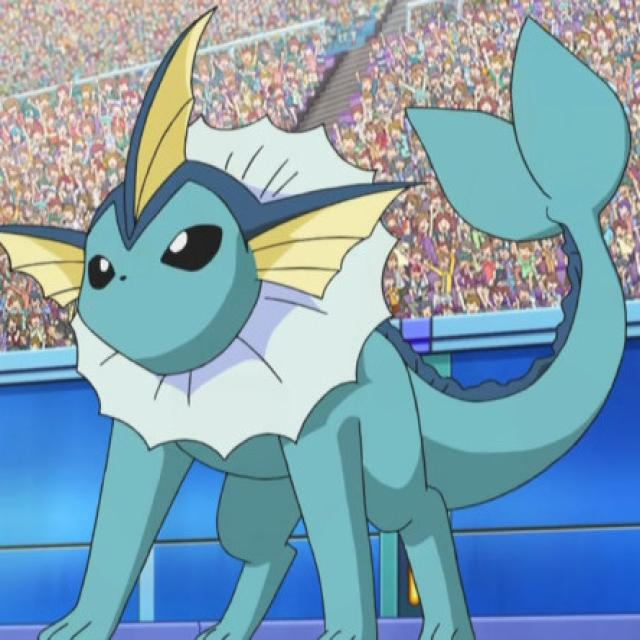Vaporeon: (20, 93, 460, 569)
